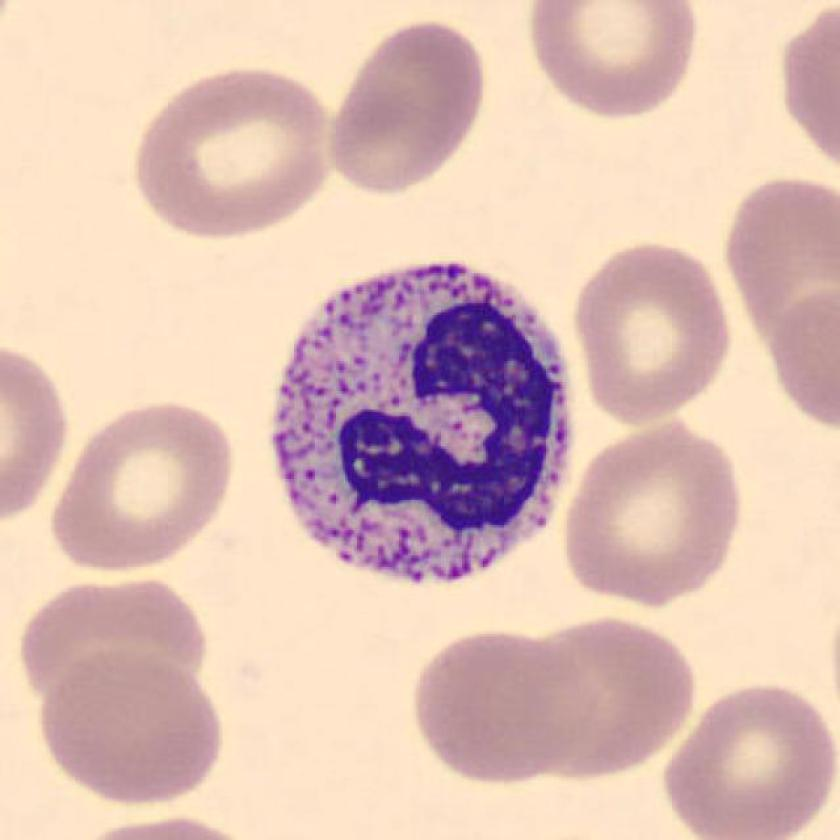neutrophil: (274, 263, 569, 580)
